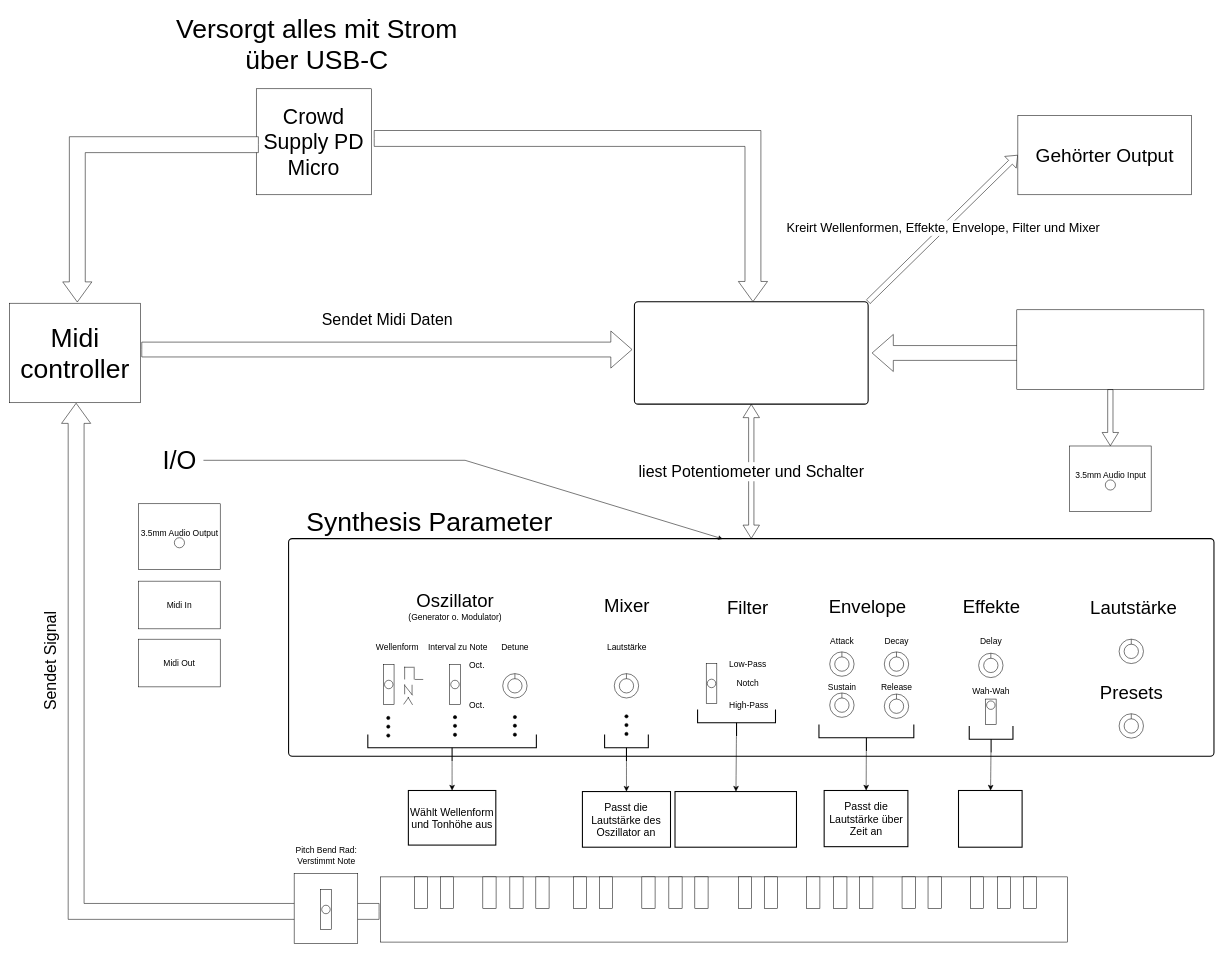
The diagram is 1224 pixels wide and 953 high, and some of its shapes have lost their labels. Each missing label, with the centre of its shape:
Beeinflusst Effekt "Stärke": point 945,353
Entfernt tiefe (High Pass), hohe (Low-Pass), oder mittlere Frequenzen: point 735,819
Potentiometer Pedal: point 1110,349
Teensy 4.1: point 751,352
Wendet Effekte an: point 990,818
